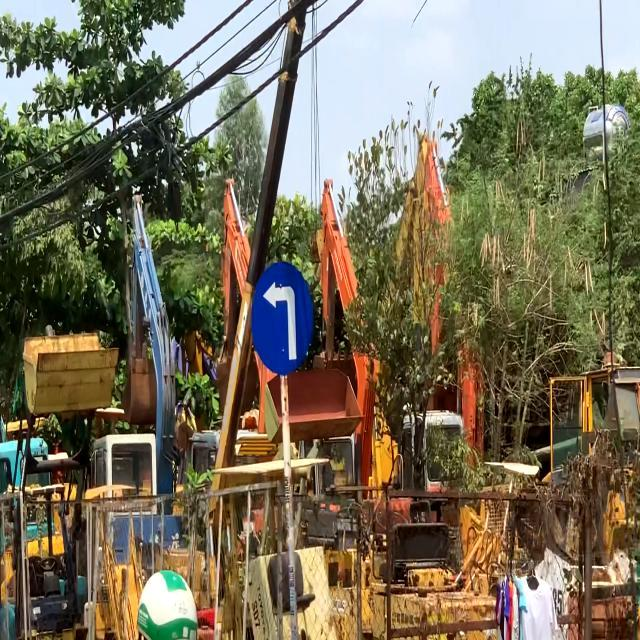Cac xe chi duoc re trai: (250, 262, 314, 375)
